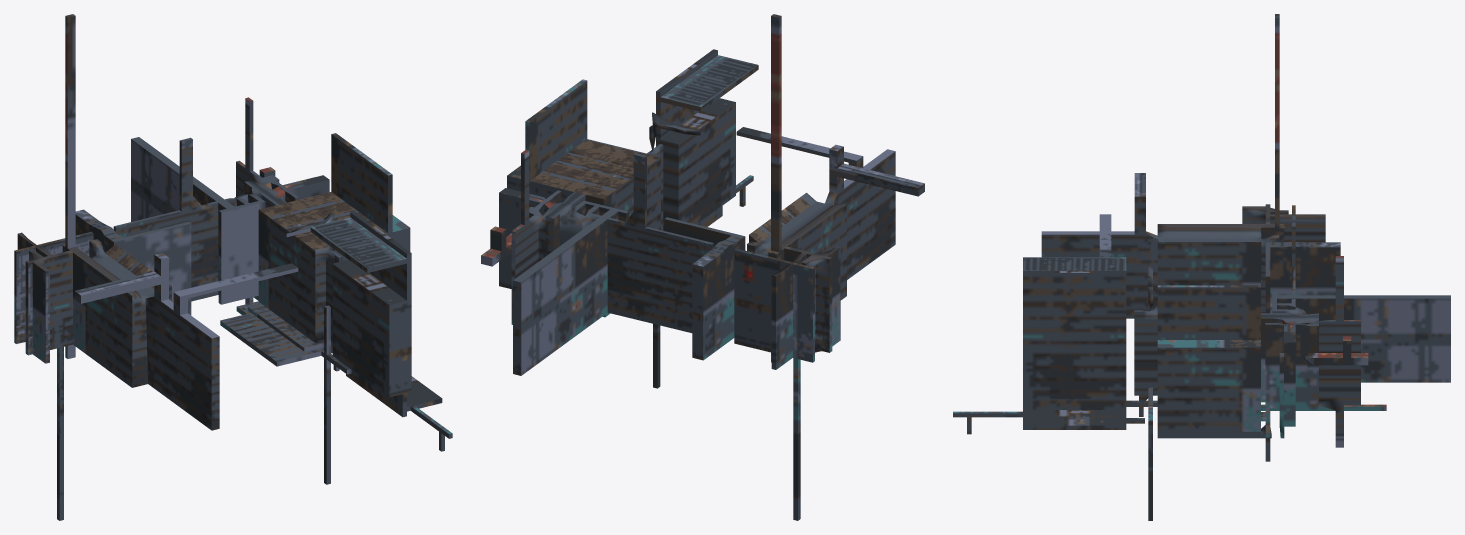
The model's file is SM_Debris_05.fbx.
3 renders of one model, left to right at view 1: azimuth 30°, elevation 25°; view 2: azimuth 150°, elevation 25°; view 3: azimuth 270°, elevation 25°, orthographic. The views are drawn at different scales.
Parts seen in each view (by area): view 1: Retopo_Cube.004_RAExtr; view 2: Retopo_Cube.004_RAExtr; view 3: Retopo_Cube.004_RAExtr.
Part boxes in pixels (x1,y1,x2,y2): Retopo_Cube.004_RAExtr: [14, 14, 452, 520]; Retopo_Cube.004_RAExtr: [481, 14, 924, 520]; Retopo_Cube.004_RAExtr: [953, 14, 1450, 520].
Size of the model in its own units: 299 by 415 by 414.
